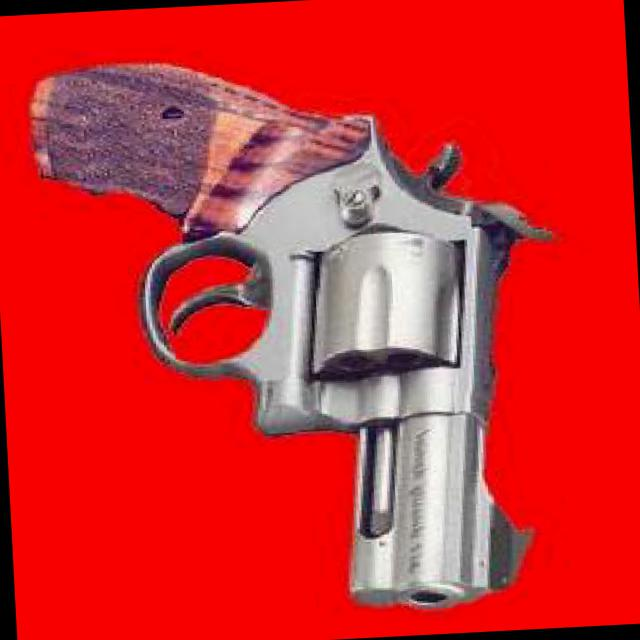handgun: (23, 36, 538, 627)
